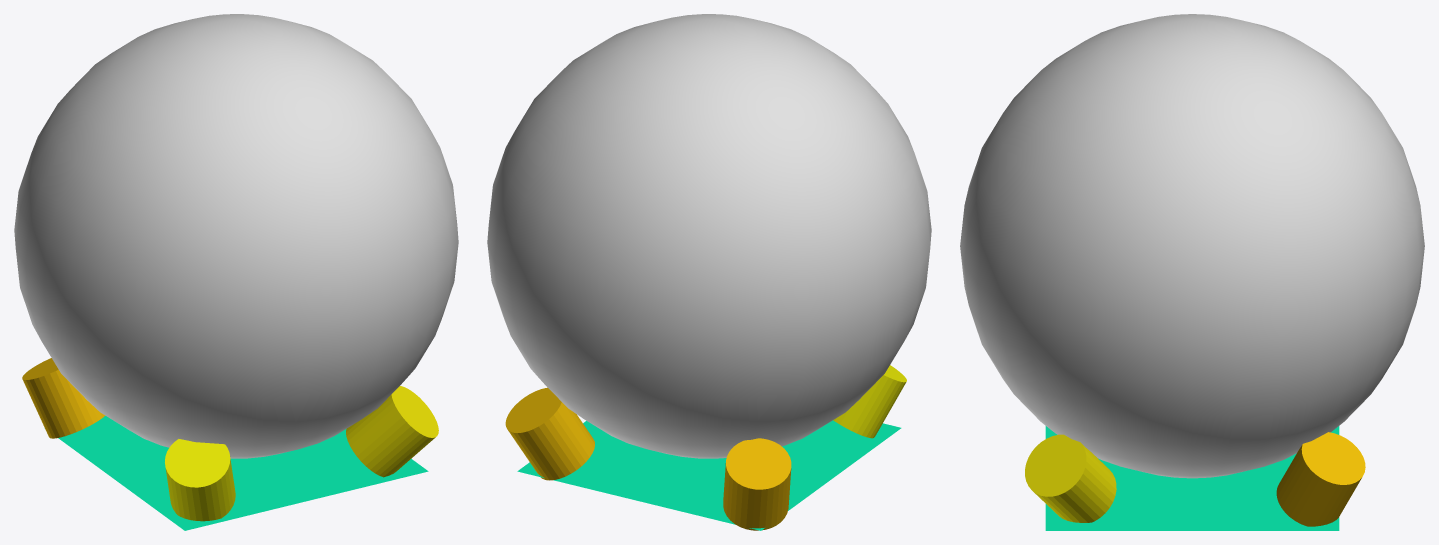
The model's file is ball.fbx.
3 renders of one model, left to right at view 1: azimuth 30°, elevation 25°; view 2: azimuth 150°, elevation 25°; view 3: azimuth 270°, elevation 25°, orthographic. The views are drawn at different scales.
Visible parts, largest first — view 1: Sphere, Plane, Cylinder.002, Cylinder.003, Cylinder; view 2: Sphere, Plane, Cylinder, Cylinder.001, Cylinder.003; view 3: Sphere, Plane, Cylinder.001, Cylinder.002.
Boxes of the visible parts, <box> form: Sphere: <box>14,14,458,458</box>; Plane: <box>44,416,428,530</box>; Cylinder.002: <box>346,386,438,477</box>; Cylinder.003: <box>165,439,235,521</box>; Cylinder: <box>22,358,105,438</box>; Sphere: <box>487,14,931,458</box>; Plane: <box>517,420,901,530</box>; Cylinder: <box>723,438,791,530</box>; Cylinder.001: <box>505,387,594,480</box>; Cylinder.003: <box>833,365,906,438</box>; Sphere: <box>960,14,1424,478</box>; Plane: <box>1045,426,1339,530</box>; Cylinder.001: <box>1276,432,1365,526</box>; Cylinder.002: <box>1025,434,1116,522</box>.
Bounding box in the file's own units: 707 × 736 × 707.
